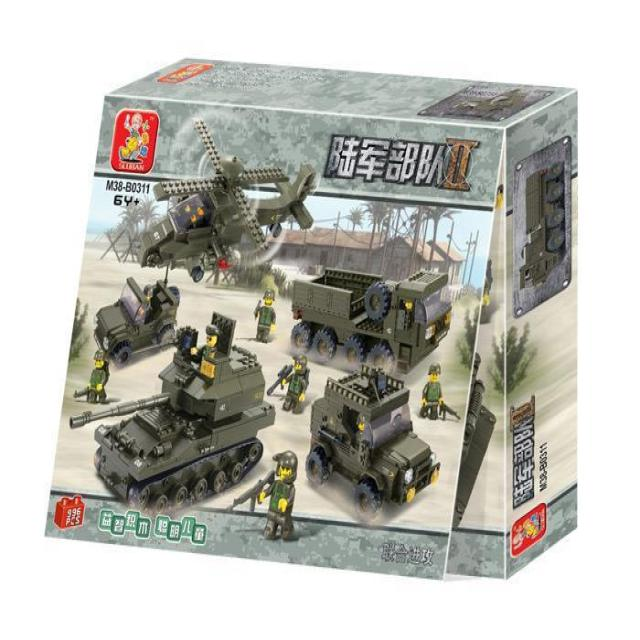Tanks: (102, 372, 260, 496)
